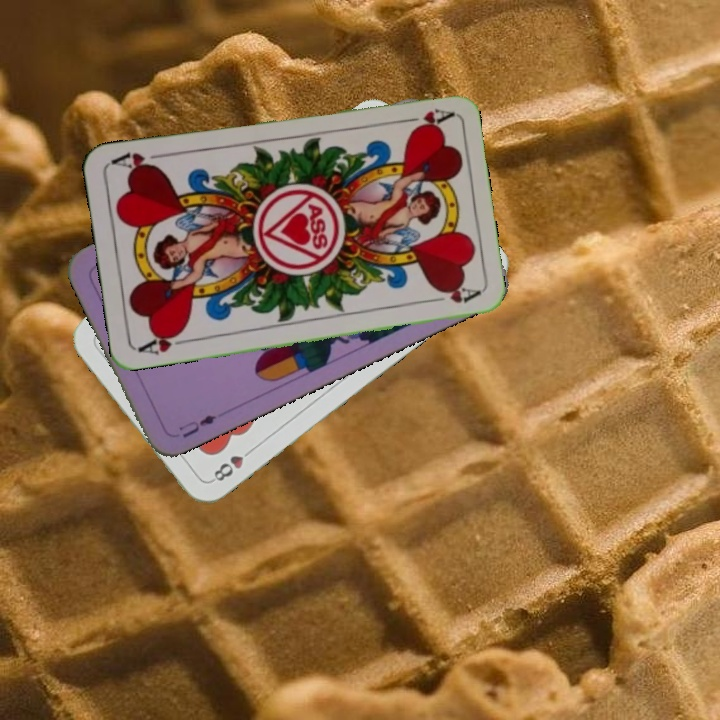EU: (178, 410, 219, 441)
H8: (208, 443, 257, 485)
HA: (135, 327, 193, 358), (394, 104, 454, 132)
